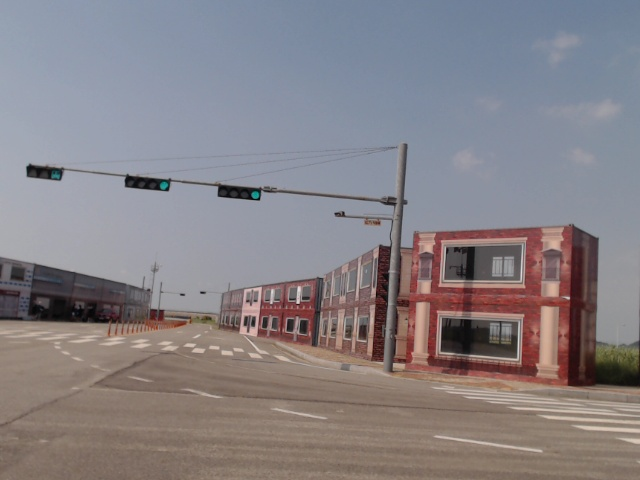straight_green_4: (125, 176, 172, 191), (218, 185, 261, 199)
